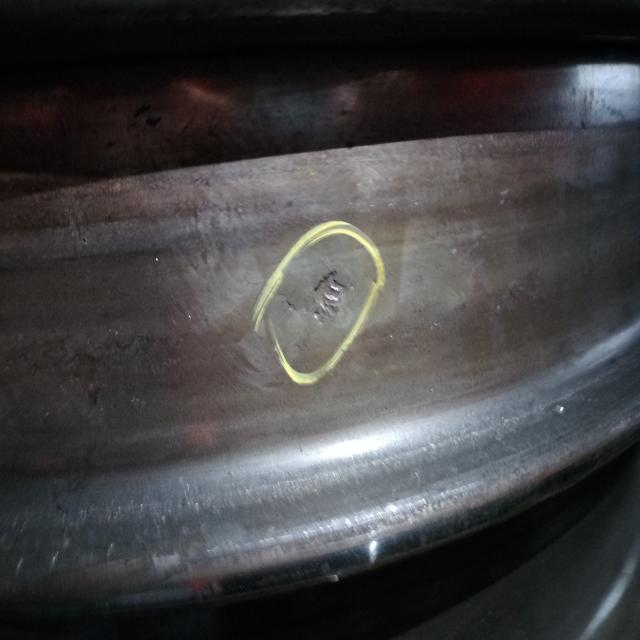Blue hole: (289, 268, 348, 333)
